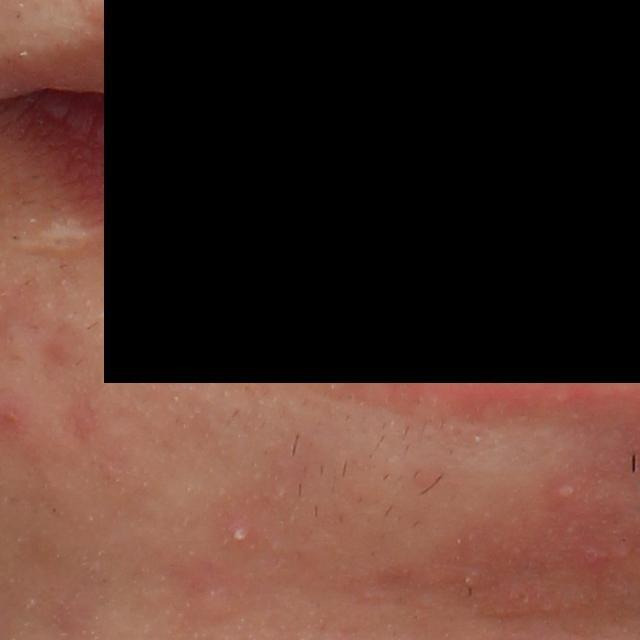pustule: (225, 517, 253, 547), (551, 478, 579, 504)
